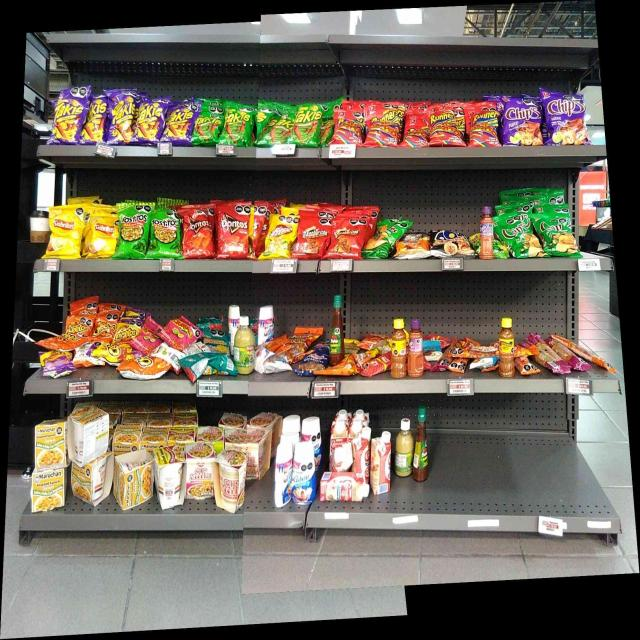bitzAlmendras: (424, 341, 442, 361), (470, 357, 498, 367)
bitzEnchilado95: (582, 346, 618, 373)
bitzHabanero: (539, 338, 572, 375)
bokadosCacahuates: (299, 352, 325, 370)
botaneraChilito: (391, 316, 407, 379), (499, 316, 514, 376)
cheetosFlaminHot: (40, 353, 73, 378), (92, 342, 124, 363)
cheetosOriginal: (125, 358, 161, 378), (95, 313, 117, 340), (66, 316, 92, 336)
chipsFuego: (502, 97, 544, 144), (546, 95, 585, 145)
chipsJalapeno: (538, 215, 573, 259), (501, 218, 532, 258)
churrumais: (166, 318, 194, 347), (140, 322, 158, 349)
delPrimoSalsa: (395, 418, 413, 478), (239, 314, 255, 376)
doritosNacho: (217, 206, 248, 261), (182, 208, 213, 260)
fritosLimon: (266, 217, 292, 258)
hotNutsOriginal: (400, 235, 428, 258)
leoCacahuates: (256, 348, 290, 374)
maruchanPollo: (113, 455, 153, 501), (70, 460, 110, 504), (34, 422, 66, 468), (31, 471, 64, 510)
maruchanRes: (155, 449, 185, 507)
nestleCarnation: (320, 472, 370, 501), (371, 430, 391, 496), (352, 437, 369, 471)
nestleLechera: (293, 445, 315, 504), (276, 441, 291, 508), (257, 304, 276, 338)
nissinRes: (214, 452, 245, 512), (187, 444, 211, 498), (247, 426, 271, 479)
popKarameladas: (431, 230, 468, 256)
productoAtras: (182, 358, 234, 378)
rancheritos: (298, 209, 328, 257), (330, 218, 360, 258)
rufflesQueso: (368, 226, 396, 252)
runners: (365, 106, 400, 149), (428, 112, 462, 146), (333, 108, 362, 145), (471, 112, 499, 148), (404, 115, 426, 147)
sabritasOriginal: (50, 207, 80, 258), (89, 215, 113, 258)
salsaBufalo: (328, 294, 344, 364), (414, 405, 428, 482)
semillasGirasol: (203, 326, 226, 353)
tajinDulce: (408, 319, 423, 376), (479, 206, 494, 259)
takisFuego: (56, 88, 83, 145), (108, 90, 134, 144), (85, 95, 106, 143), (166, 106, 192, 144), (140, 100, 162, 143)
takisOriginal: (293, 105, 322, 145), (195, 105, 221, 143), (224, 110, 251, 146), (269, 116, 290, 144)
tostitos: (119, 203, 147, 259), (150, 207, 178, 258)
